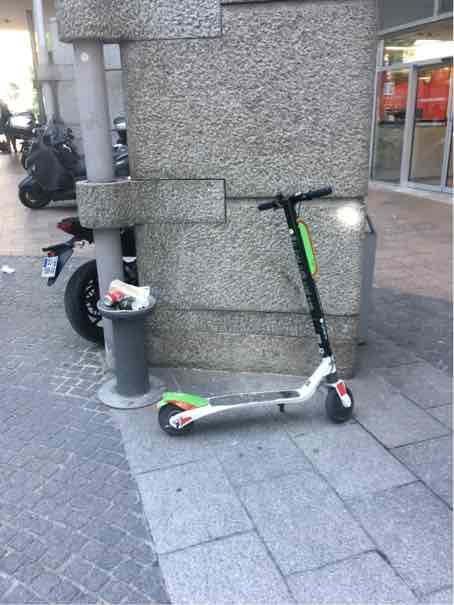scooter: (156, 178, 357, 441)
